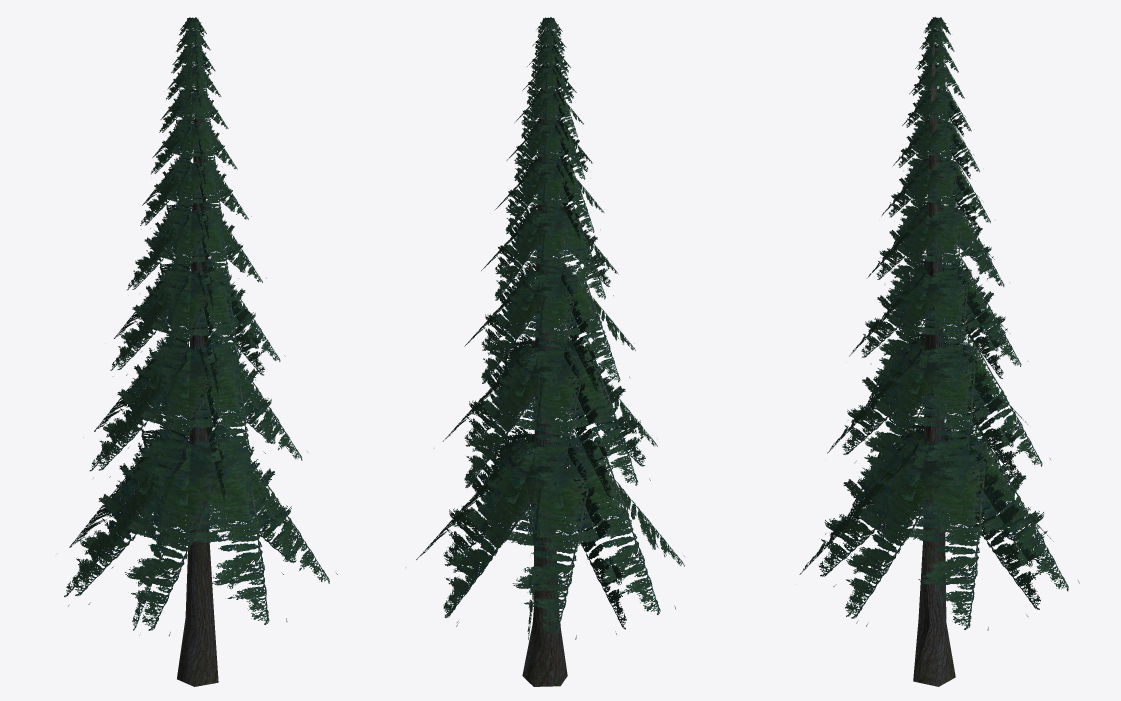
The model's file is pine_0.1.obj.
The picture shows the model from 3 angles, left to right: view 1: azimuth 30°, elevation 25°; view 2: azimuth 150°, elevation 25°; view 3: azimuth 270°, elevation 25°; orthographic projection.
Parts seen in each view (by area): view 1: Plane; view 2: Plane; view 3: Plane.
Part boxes in pixels (x1,y1,x2,y2): Plane: [57, 17, 337, 686]; Plane: [416, 17, 684, 686]; Plane: [799, 17, 1079, 686].
Bounding box in the file's own units: 34.73 × 72.17 × 34.46.
